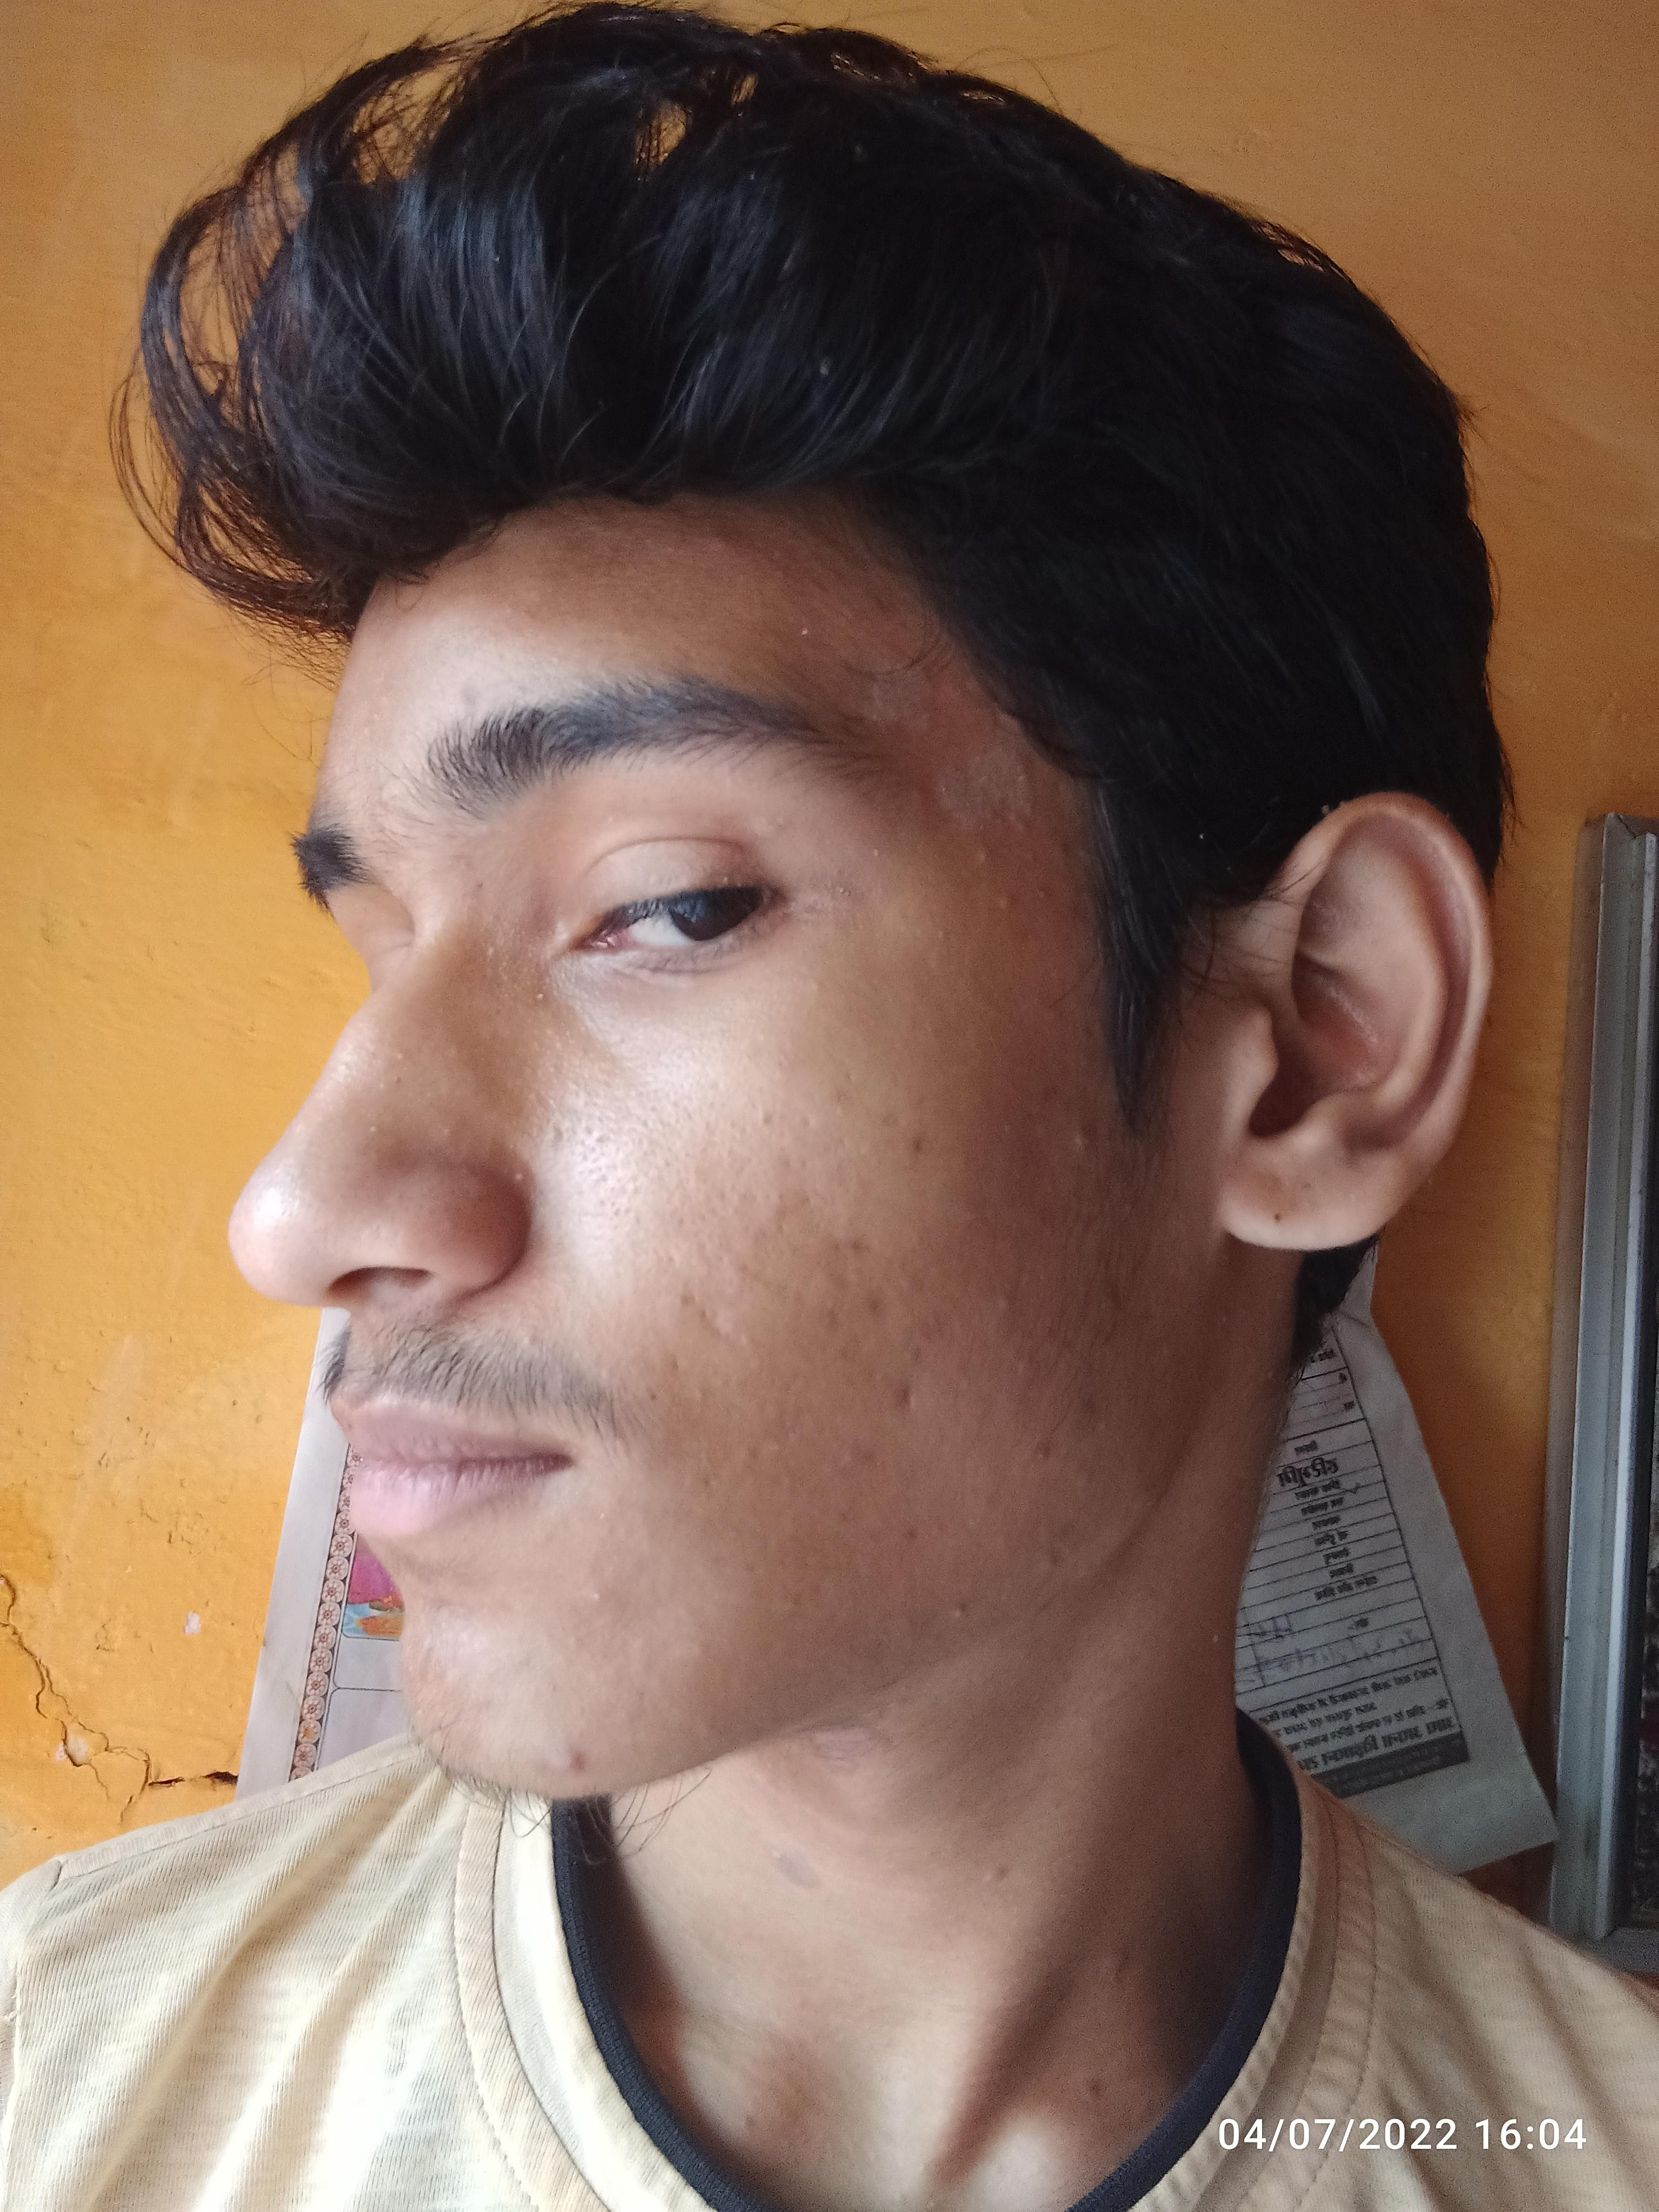Acne: (965, 841, 1063, 928), (812, 1291, 894, 1339), (817, 1233, 878, 1292), (1063, 1113, 1101, 1158), (885, 1378, 924, 1420), (896, 1125, 936, 1160), (558, 1740, 594, 1777)
Dry-Skin: (931, 747, 1037, 831), (854, 655, 950, 732)
Englarged-Pores: (558, 1075, 760, 1238)
